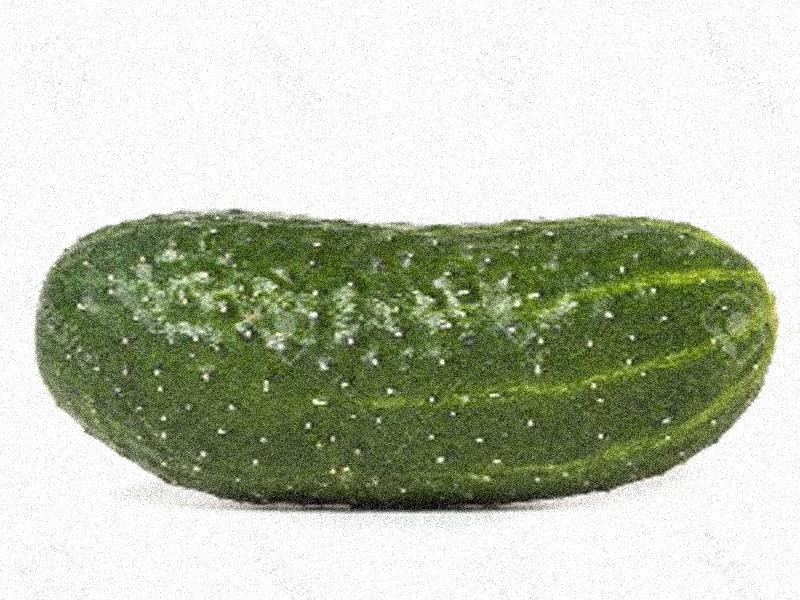Cucumber: (34, 217, 778, 507)
